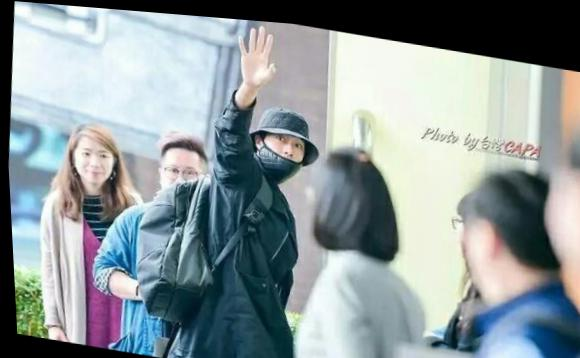NONE: (159, 156, 205, 202), (73, 139, 114, 184)
WRONG: (251, 120, 308, 179)
